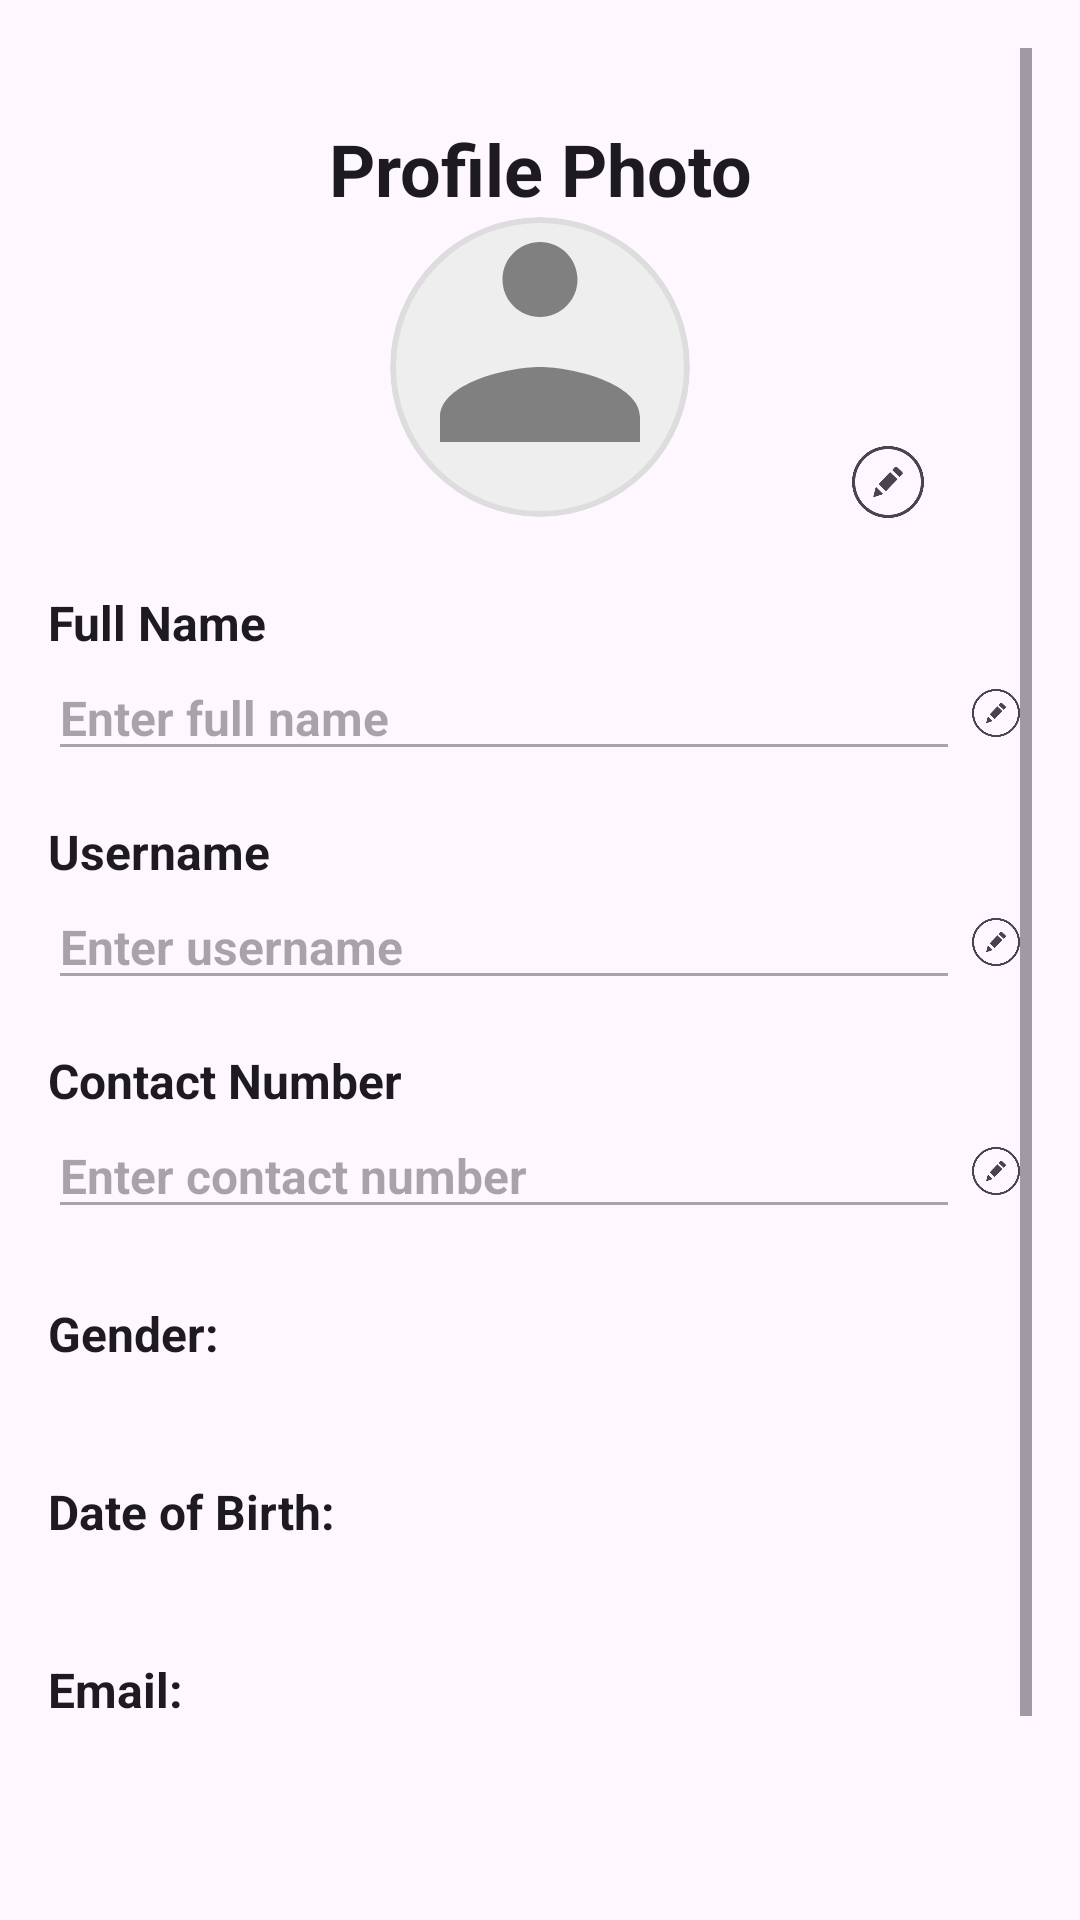

Named icons in this screenshot (1080px×1920px) and their bounding boxes, [left=x1, top=y1, right=x2, bottom=y2]:
Edit Photo: [left=852, top=446, right=924, bottom=518]
